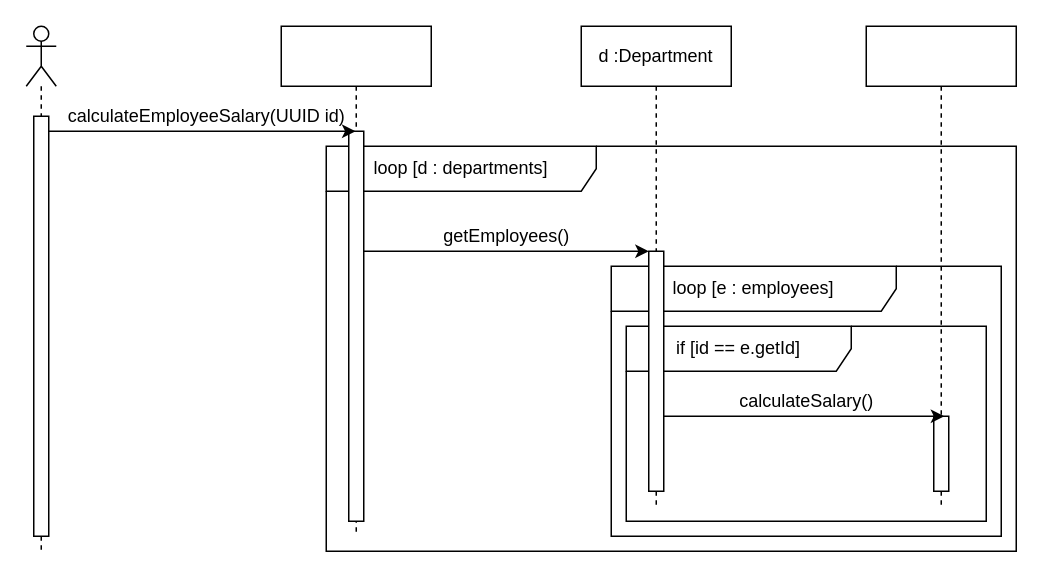
Some shapes in this 1043 by 578 pixel diagram are drawn without their labels. The box of each missing label's shape, as (x1, y1, x2, y2) in pixels:
:SabanaPayroll: (280, 25, 431, 536)
e :Employee: (865, 25, 1016, 506)
